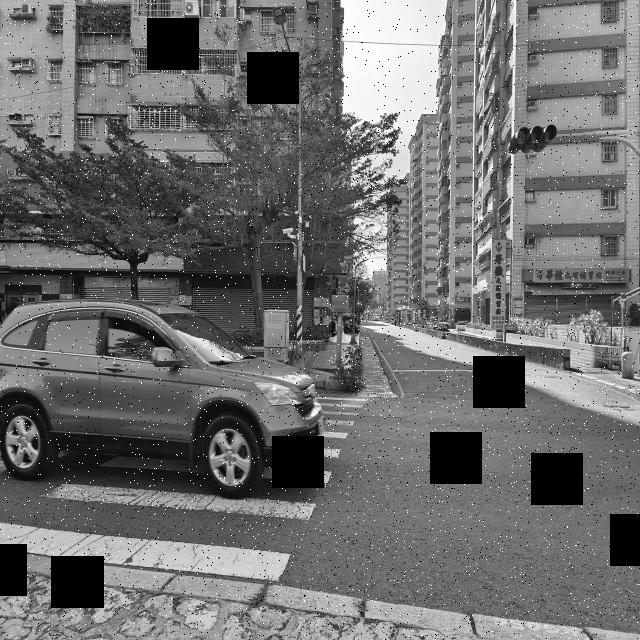zebra_crossing: (119, 256, 309, 640)
